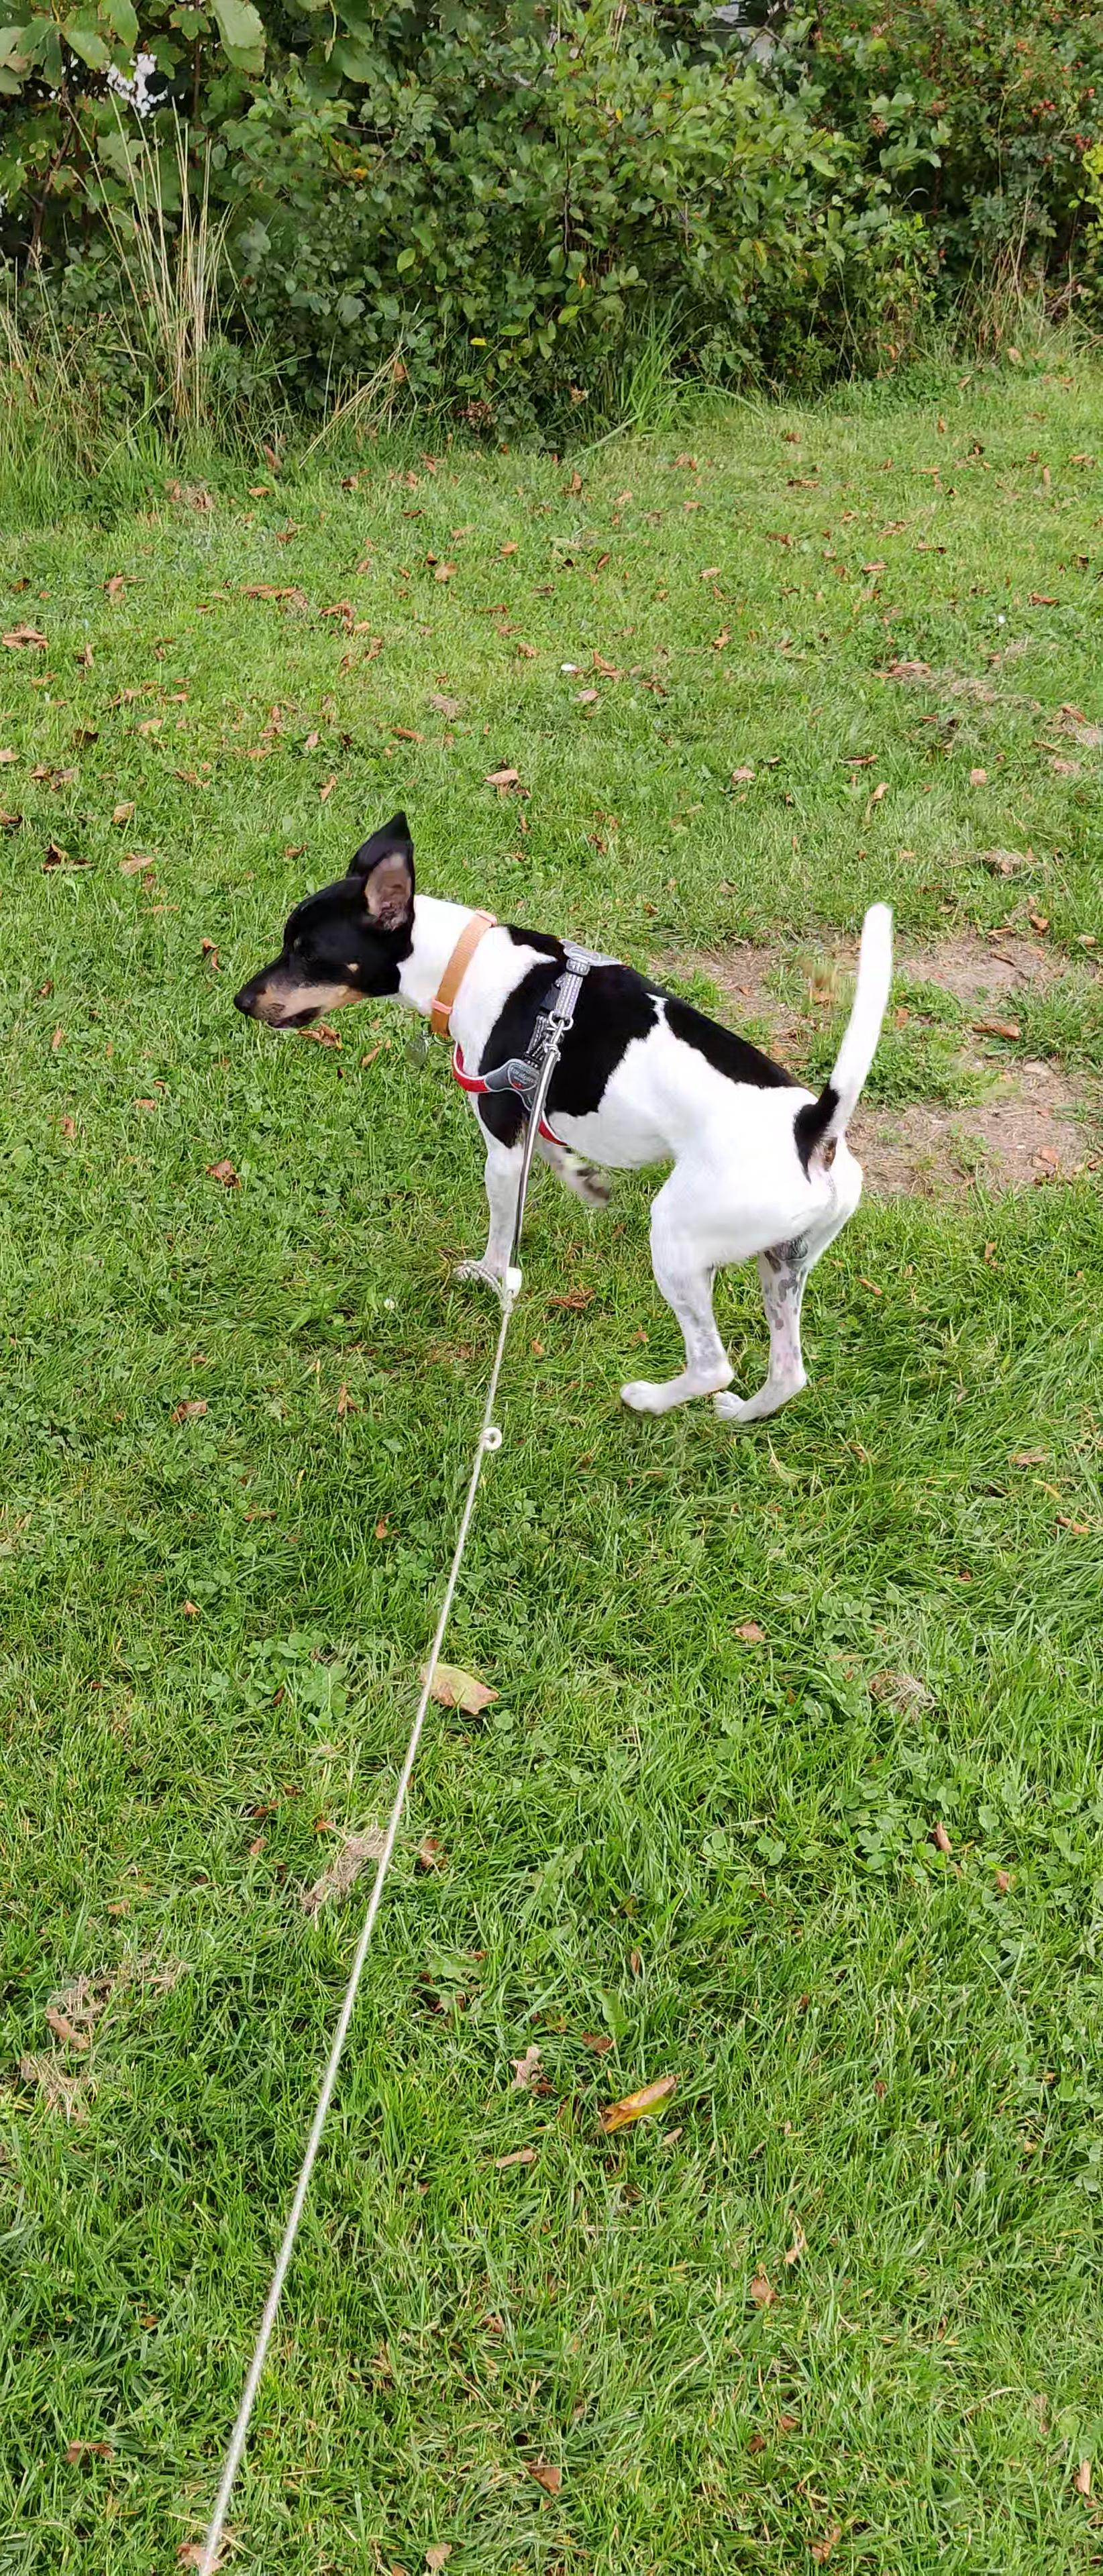Dog: (214, 798, 927, 1459)
